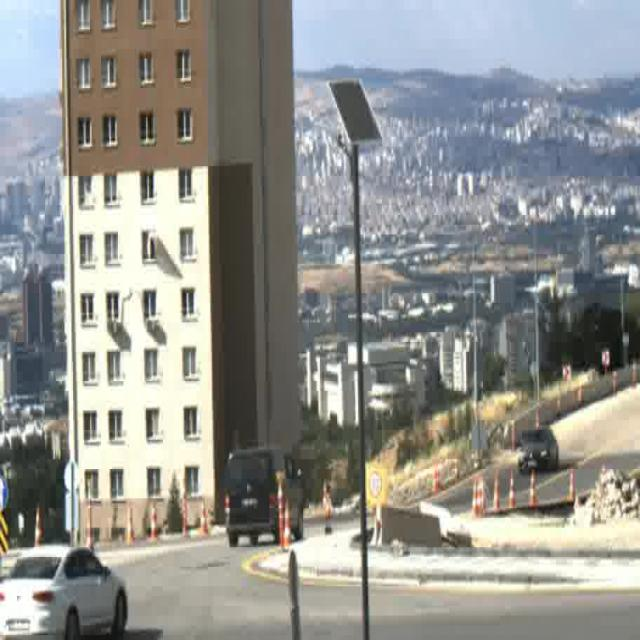Car: (0, 541, 124, 640), (224, 445, 304, 547), (518, 429, 558, 472)
